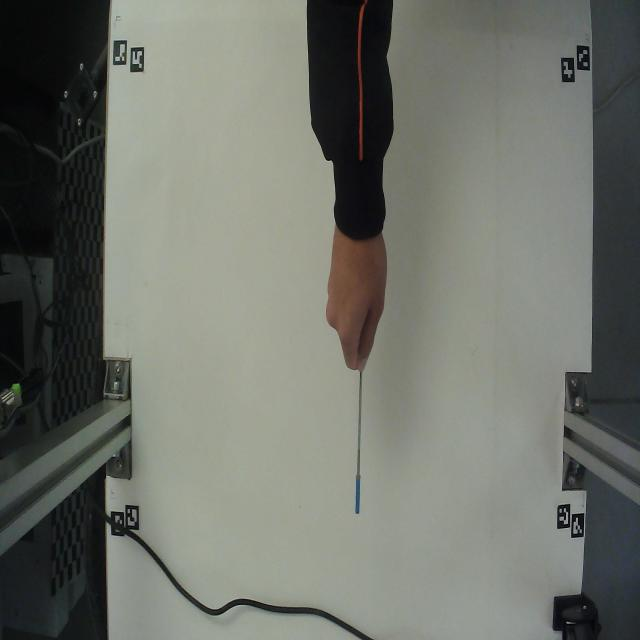NoPres: (327, 357, 382, 540)
